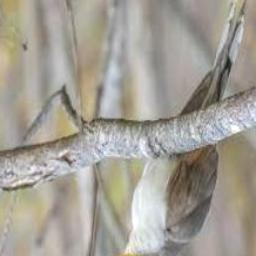Cuckoo: (107, 0, 248, 256)
